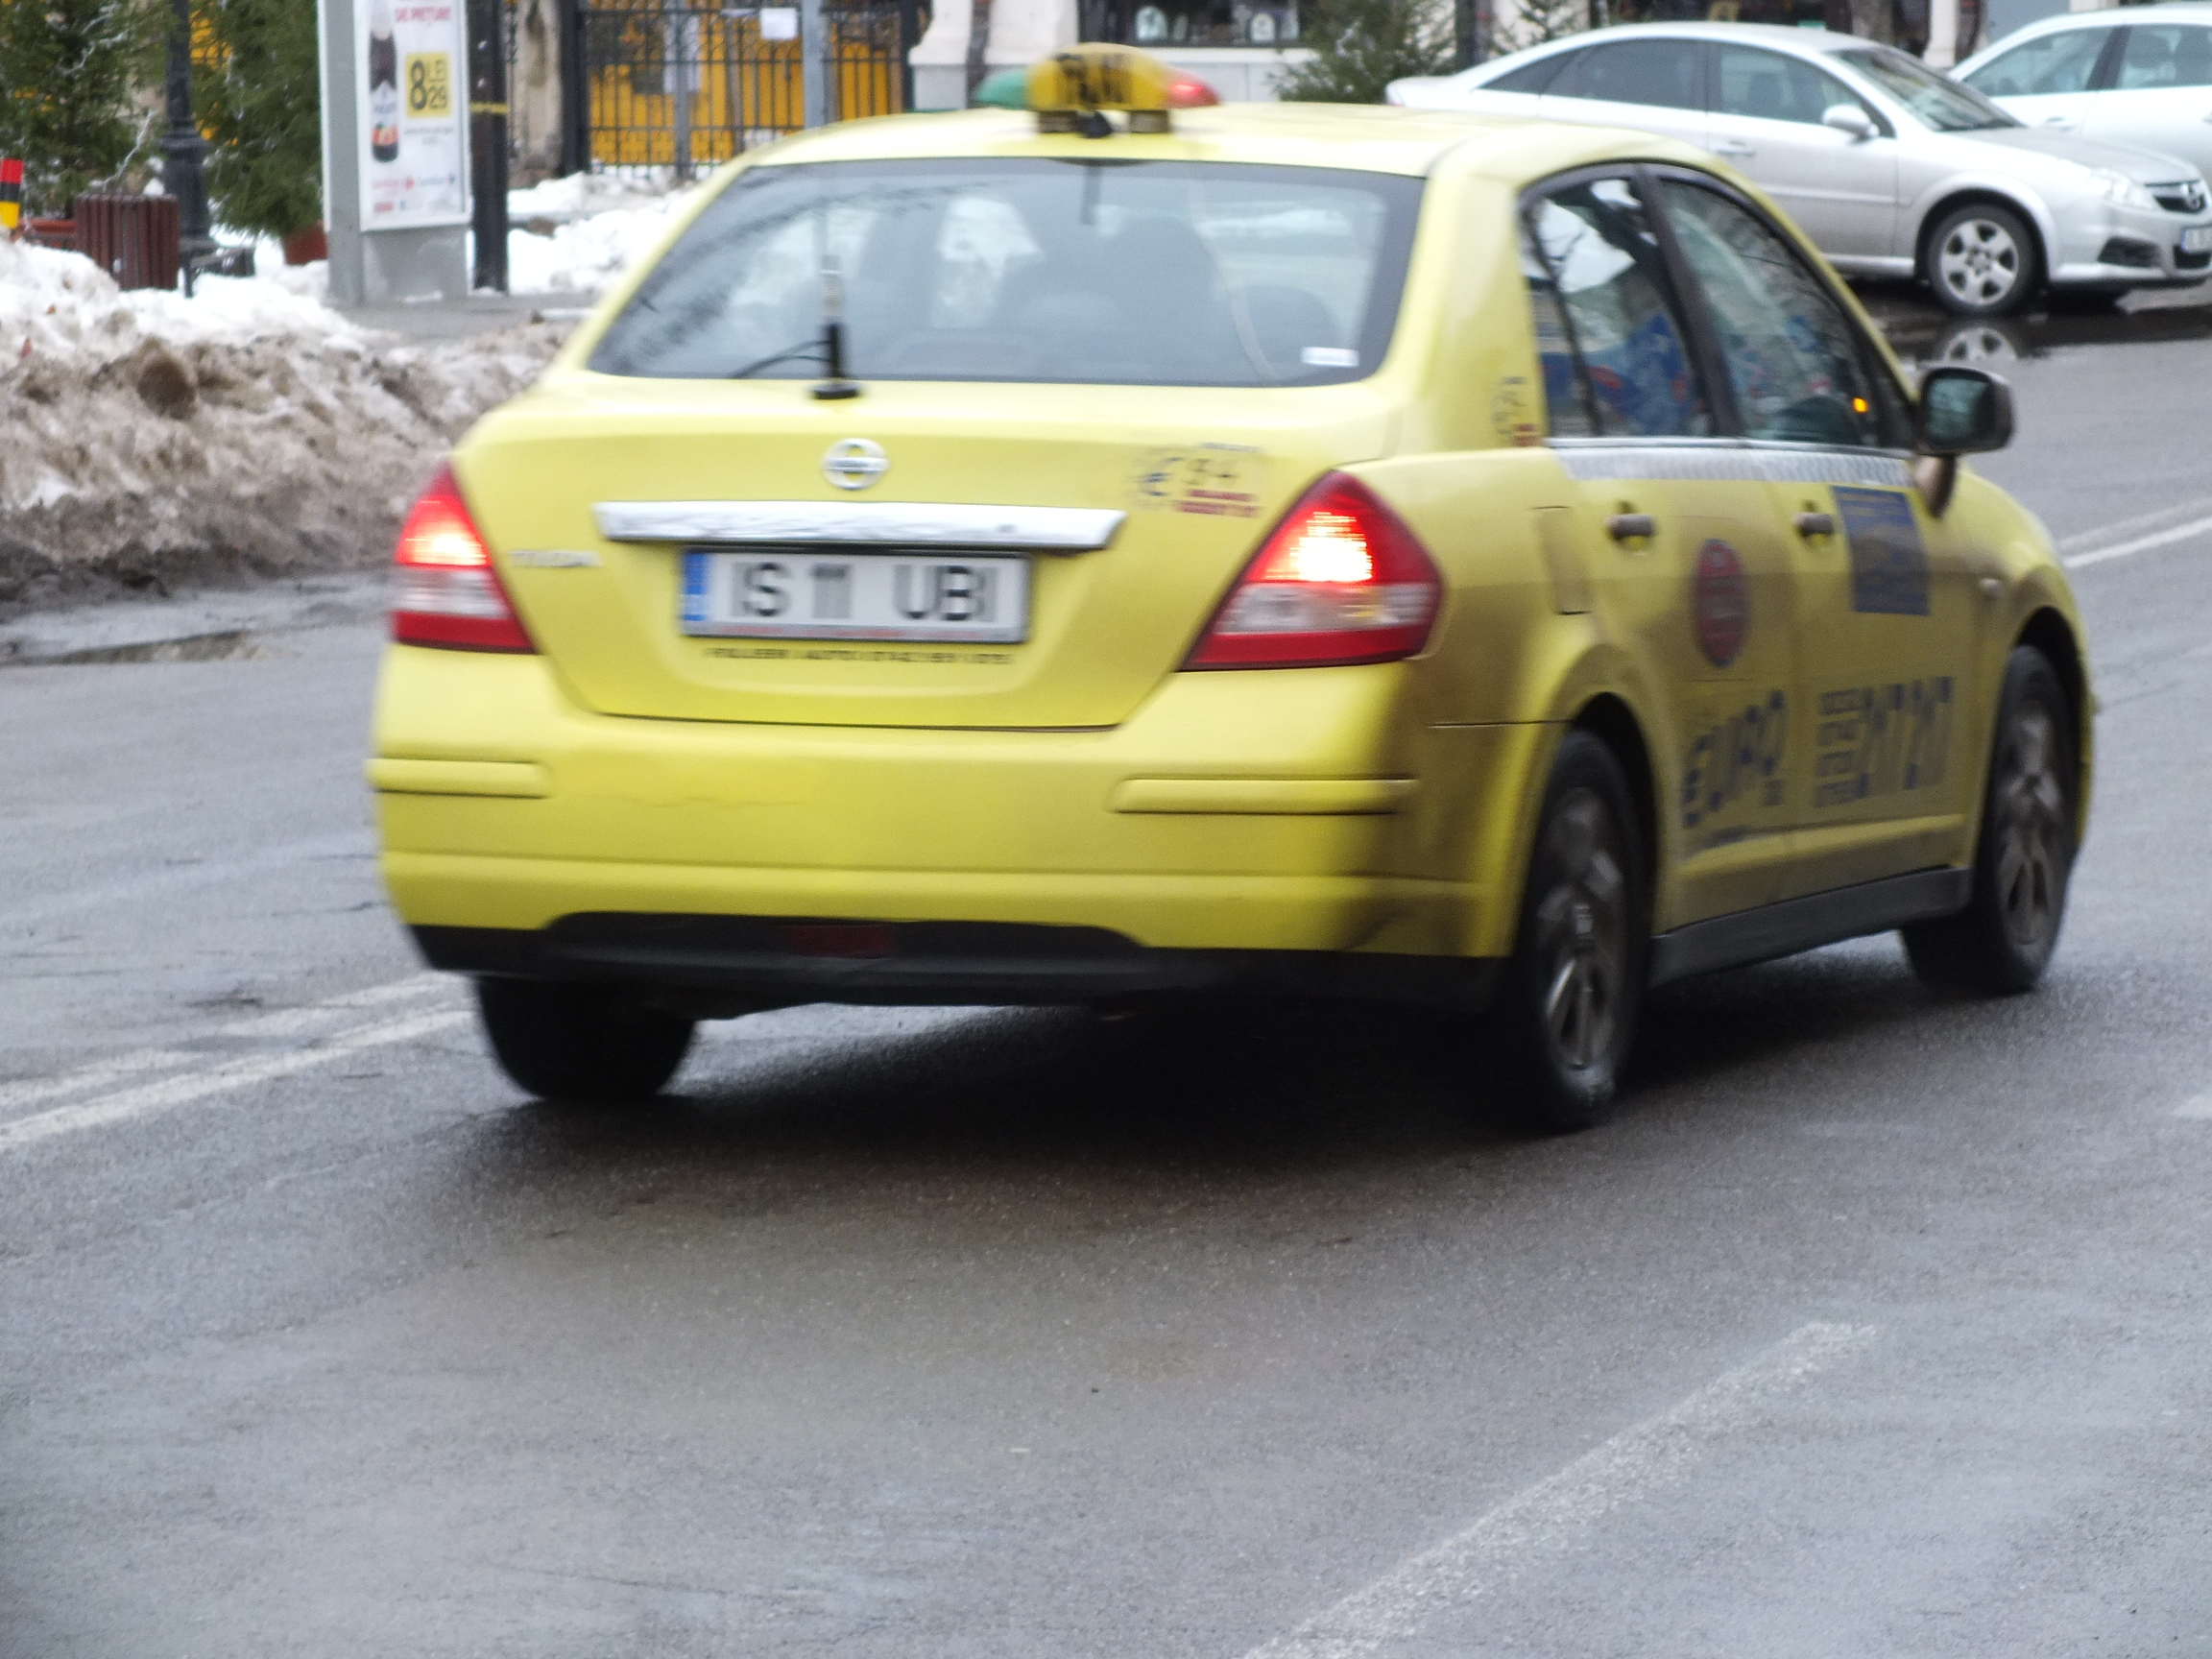IS11UBI: (677, 558, 1022, 630)
